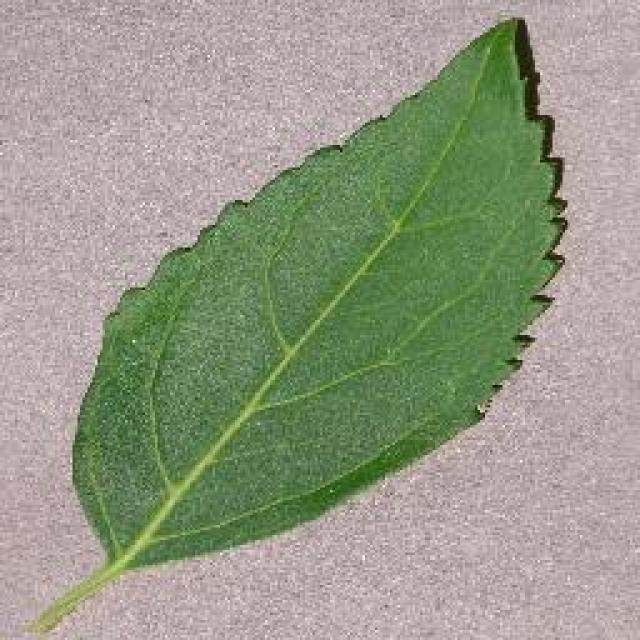Cherry___healthy: (7, 7, 580, 640)
